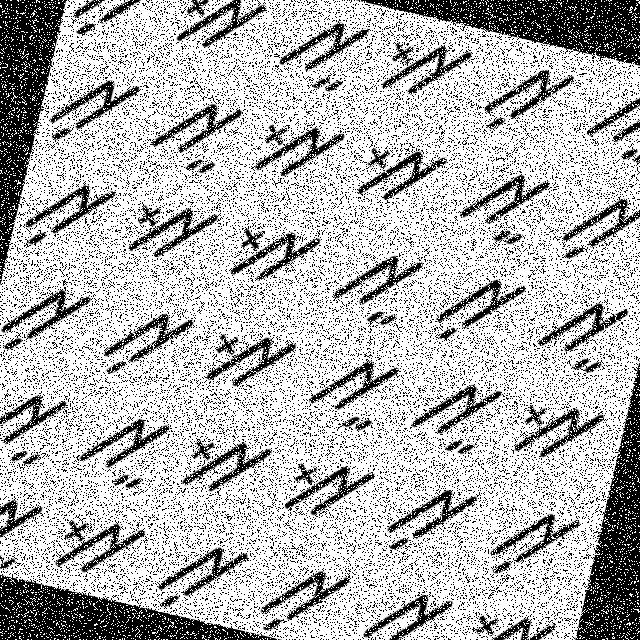wah: (529, 278, 639, 388), (138, 77, 247, 186), (324, 226, 434, 334), (301, 340, 407, 444), (452, 152, 554, 255), (72, 398, 175, 499), (404, 365, 506, 463), (275, 5, 375, 104), (355, 570, 458, 639), (0, 380, 71, 475), (578, 74, 639, 175), (0, 474, 51, 578)
wo: (197, 308, 306, 411), (278, 441, 384, 536), (118, 184, 225, 278), (508, 378, 609, 476), (50, 503, 152, 598), (178, 416, 278, 512), (220, 210, 325, 301), (247, 100, 348, 194), (376, 22, 475, 108), (356, 129, 450, 214), (170, 0, 270, 67), (464, 598, 565, 639)
wu: (475, 486, 588, 601), (94, 286, 198, 394), (44, 54, 146, 162), (381, 462, 484, 567), (15, 163, 122, 263), (0, 268, 98, 371), (430, 256, 530, 356), (478, 50, 580, 146), (254, 546, 356, 639), (150, 530, 250, 622), (556, 177, 639, 278), (63, 0, 168, 56)
